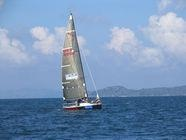fanchuan: (57, 10, 104, 116)
